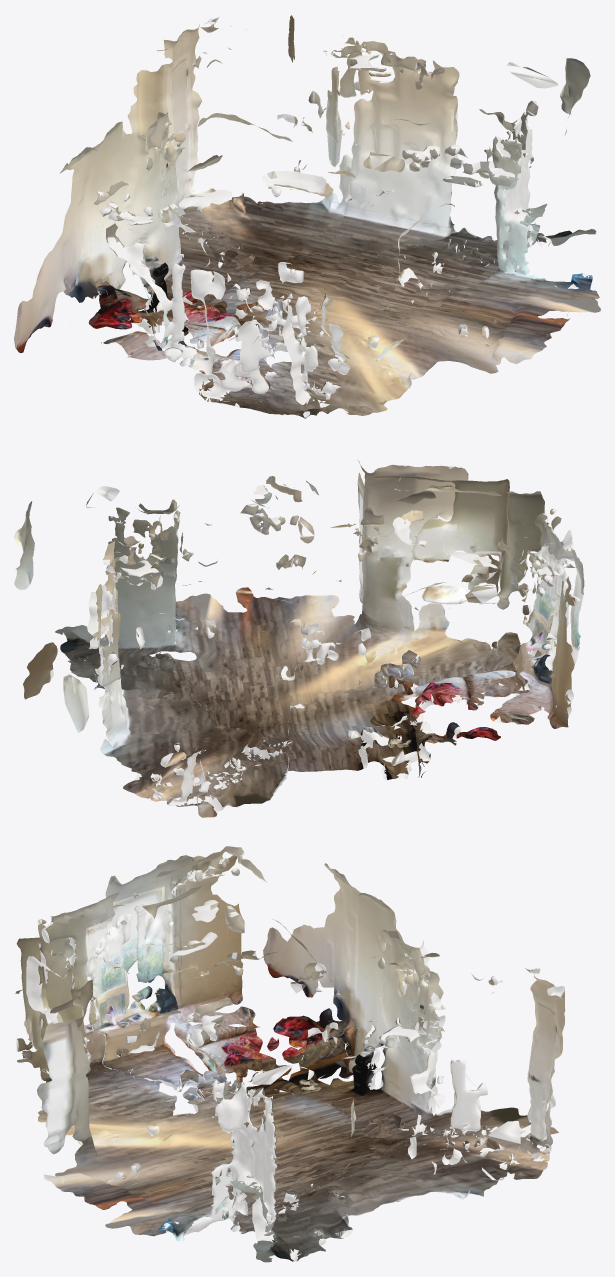
The model's file is MAP_8O96RCB6YA58.glb.
3 views of the same model, one above another, from view 1: azimuth 30°, elevation 25°; view 2: azimuth 150°, elevation 25°; view 3: azimuth 270°, elevation 25° (orthographic). The views are drawn at different scales.
Visible parts, largest first — view 1: TexturedMesh.obj; view 2: TexturedMesh.obj; view 3: TexturedMesh.obj.
Part boxes in pixels (x1,y1,x2,y2): TexturedMesh.obj: (14, 15, 600, 418); TexturedMesh.obj: (14, 460, 584, 817); TexturedMesh.obj: (15, 846, 565, 1262).
Size of the model in its own units: 10.33 by 3.37 by 9.05.
Materials: 1 (1 with a texture image).
